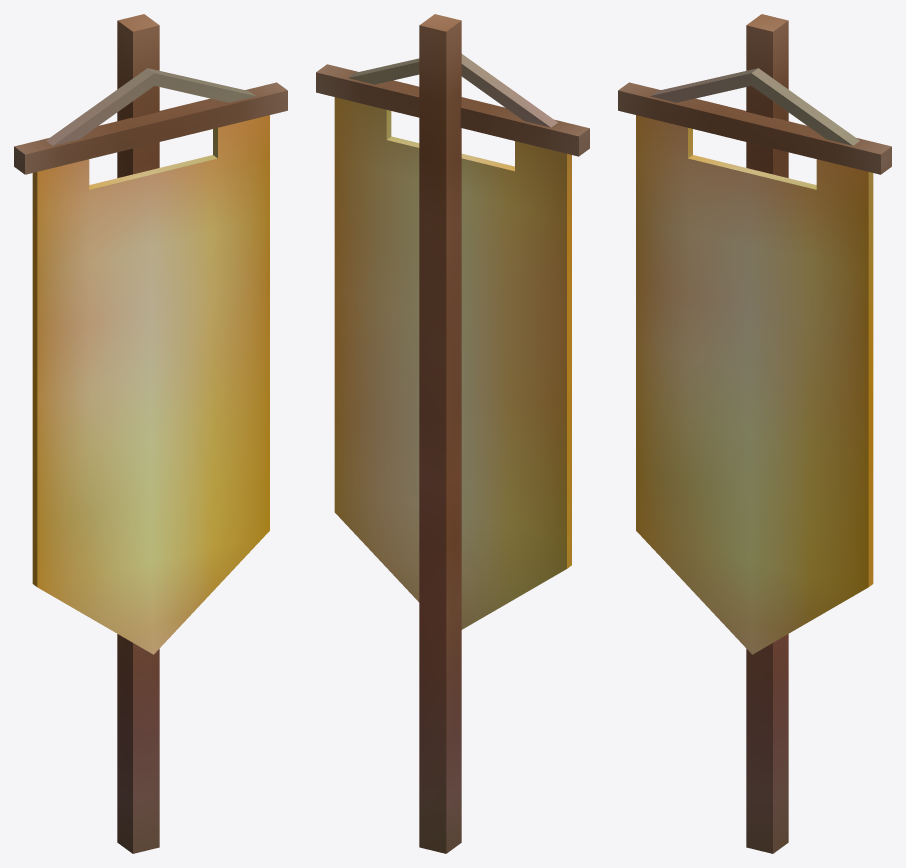
The model's file is mega-pack-cube-018.glb.
The picture shows the model from 3 angles, left to right: view 1: azimuth 30°, elevation 25°; view 2: azimuth 150°, elevation 25°; view 3: azimuth 330°, elevation 25°; orthographic projection.
Parts seen in each view (by area): view 1: Cube.018; view 2: Cube.018; view 3: Cube.018.
Part boxes in pixels (x1=…): Cube.018: x1=14, y1=14, x2=287, y2=853; Cube.018: x1=316, y1=14, x2=589, y2=853; Cube.018: x1=618, y1=14, x2=891, y2=853.
Size of the model in its own units: 0.4614 by 1.38 by 0.0781.
1 material, 1 textured.
